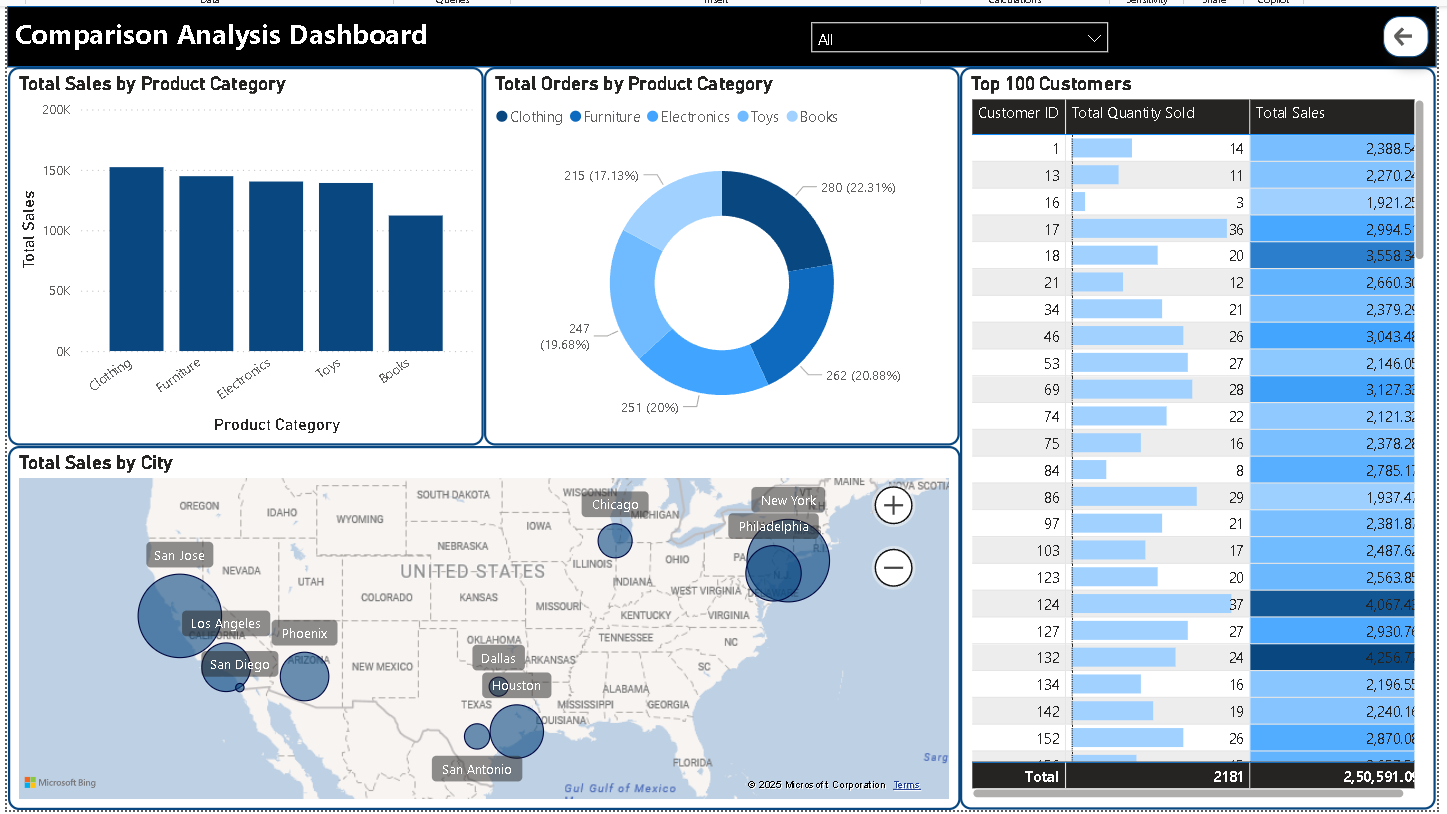

This screenshot's page, from the dashboard's own definition file:
{"tool":"powerbi","page":{"name":"Comparison Page","canvas":[1280,720],"ordinal":1},"visuals":[{"type":"shape","box":[0,0,1280,54.9],"z":0},{"type":"textbox","box":[1.8,2.7,407.5,49.3],"z":1000},{"type":"clusteredColumnChart","fields":{"Category":["Sales data 2024.product_category"],"Y":["Sum(Sales data 2024.sales)"]},"box":[1,54.6,426.3,338.5],"z":2000},{"type":"donutChart","fields":{"Category":["Sales data 2024.product_category"],"Y":["CountNonNull(Sales data 2024.order_id)"]},"box":[427.2,54.6,426.3,339.4],"z":3000},{"type":"tableEx","title":"Top 100 Customers","fields":{"Values":["Sales data 2024.customer_id","Sum(Sales data 2024.quantity_sold)","Sum(Sales data 2024.sales)"]},"box":[853.4,54.6,426.3,665.4],"z":4000},{"type":"map","fields":{"Category":["Sales data 2024.city"],"Size":["Sum(Sales data 2024.sales)"]},"box":[0.9,394,852.5,326],"z":5000},{"type":"slicer","fields":{"Values":["Sales data 2024.state"]},"box":[710.1,4.5,285.7,46.6],"z":6000},{"type":"actionButton","box":[1232.2,9,41.2,36.7],"z":7000}]}

Visuals, with their boxes in screenshot pixels (x1, y1, x2, y2):
shape: <box>4,4,1431,65</box>
textbox: <box>6,7,460,62</box>
clusteredColumnChart - Sales data 2024.product_category x Sum(Sales data 2024.sales): <box>5,65,480,442</box>
donutChart - Sales data 2024.product_category x CountNonNull(Sales data 2024.order_id): <box>480,65,955,443</box>
"Top 100 Customers" tableEx: <box>955,65,1430,806</box>
map - Sales data 2024.city x Sum(Sales data 2024.sales): <box>5,443,955,806</box>
slicer - Sales data 2024.state: <box>795,9,1114,61</box>
actionButton: <box>1377,14,1423,55</box>
